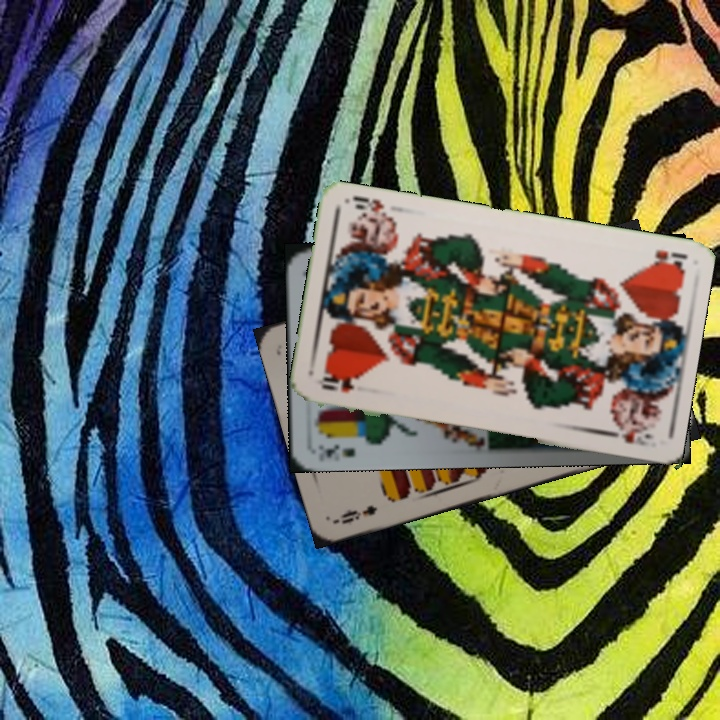E9: (333, 501, 380, 527)
EK: (314, 440, 357, 463)
HO: (645, 245, 689, 272), (314, 374, 357, 396)
